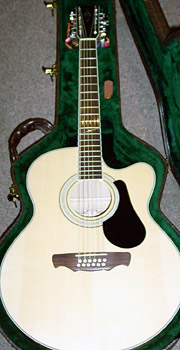guitar: (1, 7, 180, 349)
